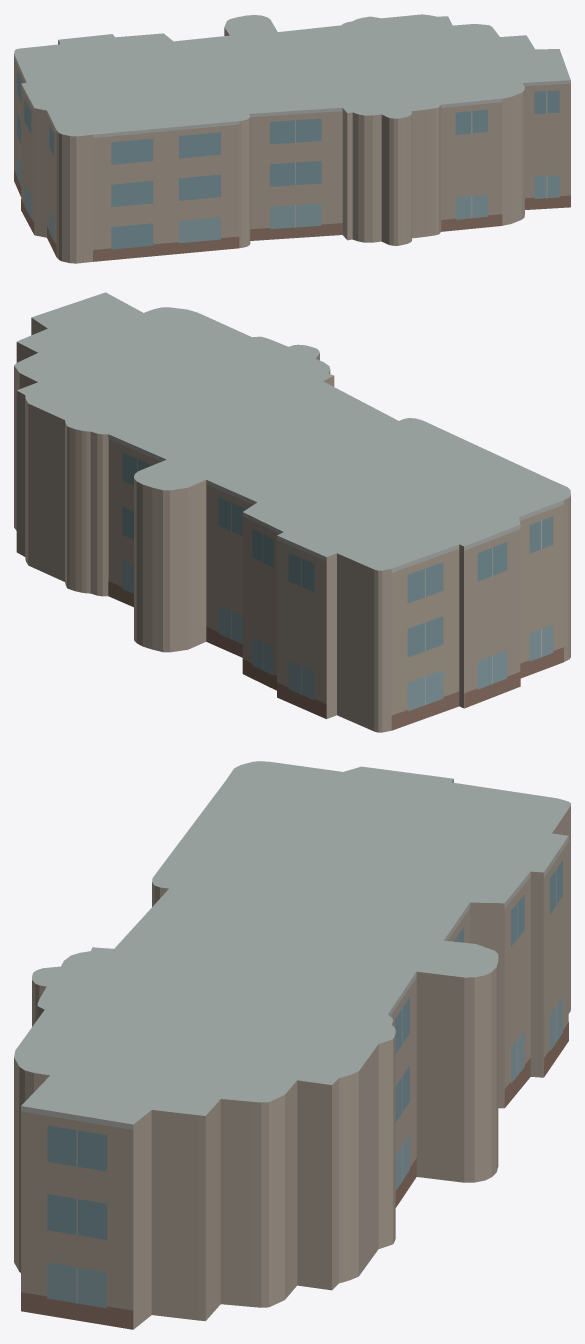
File: survey-upis-32470098.glb
3 renders of one model, top to bottom at view 1: azimuth 30°, elevation 25°; view 2: azimuth 150°, elevation 25°; view 3: azimuth 270°, elevation 25°, orthographic. The views are drawn at different scales.
Visible parts, largest first — view 1: survey-upis-32470098.tmp; view 2: survey-upis-32470098.tmp; view 3: survey-upis-32470098.tmp.
Boxes of the visible parts, x1,y1,x2,y2 form: survey-upis-32470098.tmp: (14, 14, 570, 263); survey-upis-32470098.tmp: (14, 292, 570, 732); survey-upis-32470098.tmp: (14, 761, 570, 1329).
Bounding box in the file's own units: 34.75 × 9.15 × 22.51.
